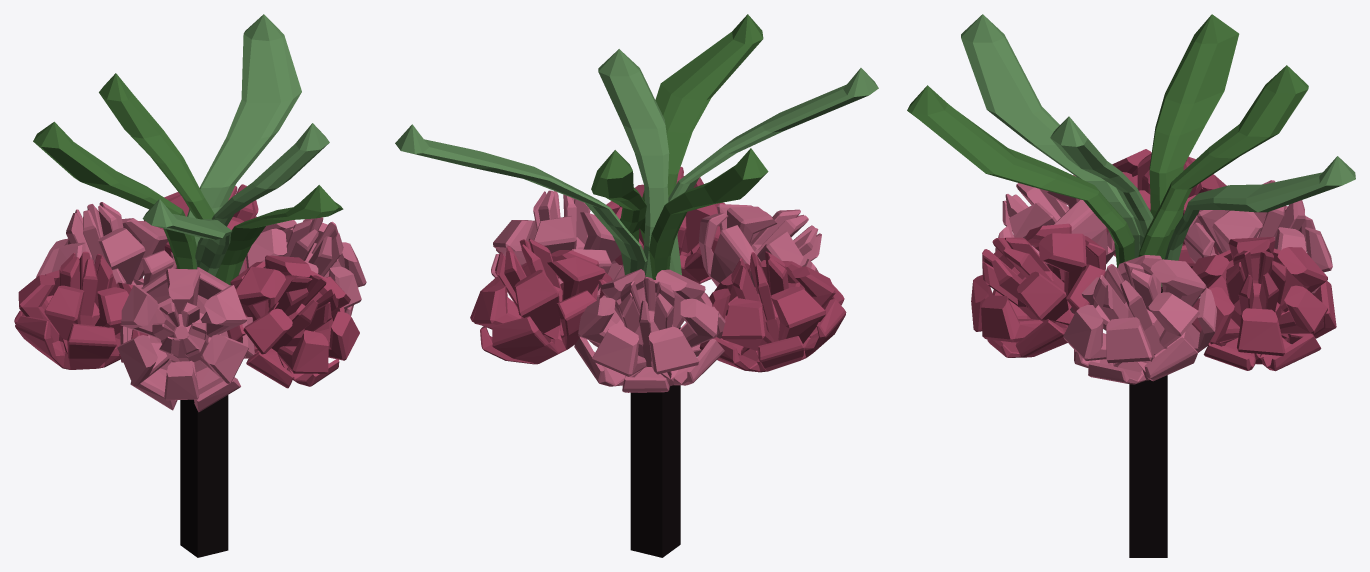
The model's file is Spring_Flower_1_ground.fbx.
3 views of the same model, side by side, from view 1: azimuth 30°, elevation 25°; view 2: azimuth 150°, elevation 25°; view 3: azimuth 270°, elevation 25° (orthographic). The views are drawn at different scales.
Parts seen in each view (by area): view 1: Flower1, Cube.009; view 2: Flower1, Cube.009; view 3: Flower1, Cube.009.
Part boxes in pixels (box(x1,y1,x2,y2)): Flower1: box(14, 14, 366, 412); Cube.009: box(180, 395, 228, 557); Flower1: box(395, 14, 878, 392); Cube.009: box(630, 327, 680, 557); Flower1: box(907, 14, 1355, 384); Cube.009: box(1129, 287, 1167, 557).
Size of the model in its own units: 235 by 289 by 249.
